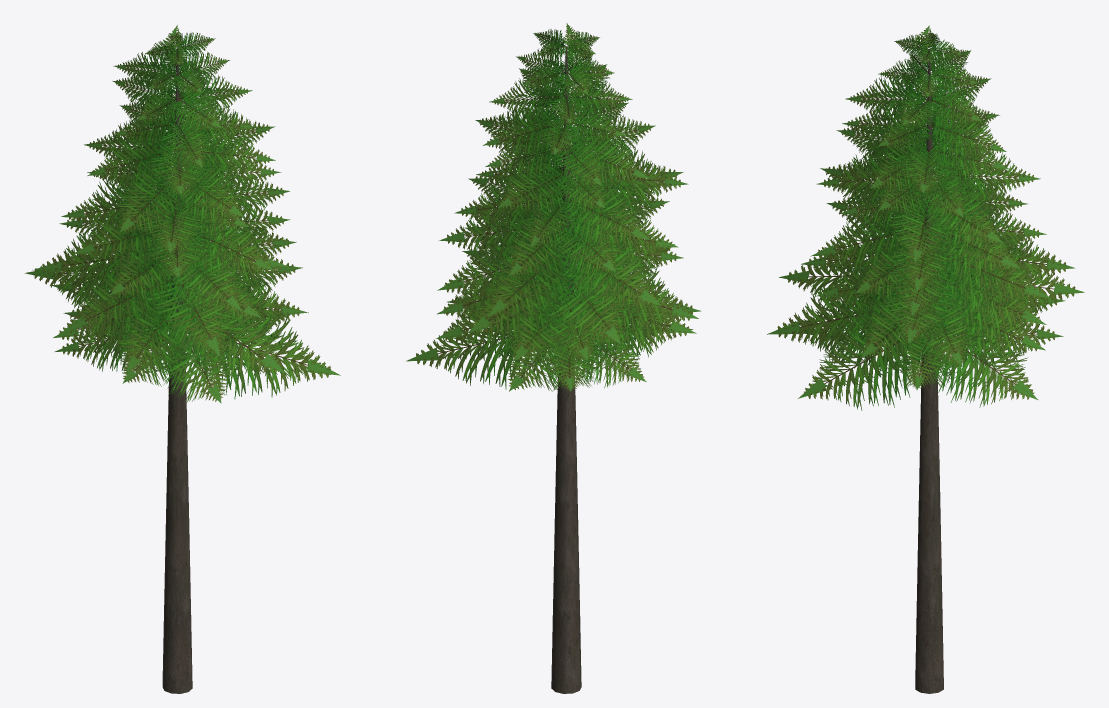
Rendered from pine_lod0.glb.
3 renders of one model, left to right at view 1: azimuth 30°, elevation 25°; view 2: azimuth 150°, elevation 25°; view 3: azimuth 270°, elevation 25°, orthographic.
Visible parts, largest first — view 1: pine; view 2: pine; view 3: pine.
Boxes of the visible parts, box(x1,y1,x2,y2) form: pine: box(24, 25, 340, 693); pine: box(406, 23, 701, 693); pine: box(767, 25, 1084, 693).
Size of the model in its own units: 10.71 by 24.14 by 11.28.
Materials: 2 (2 with a texture image).
